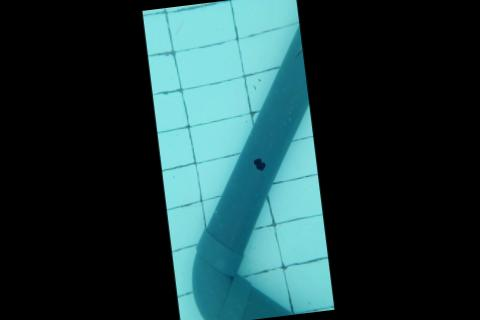kebocoran: (251, 156, 266, 172)
keretakan: (293, 48, 303, 59)
